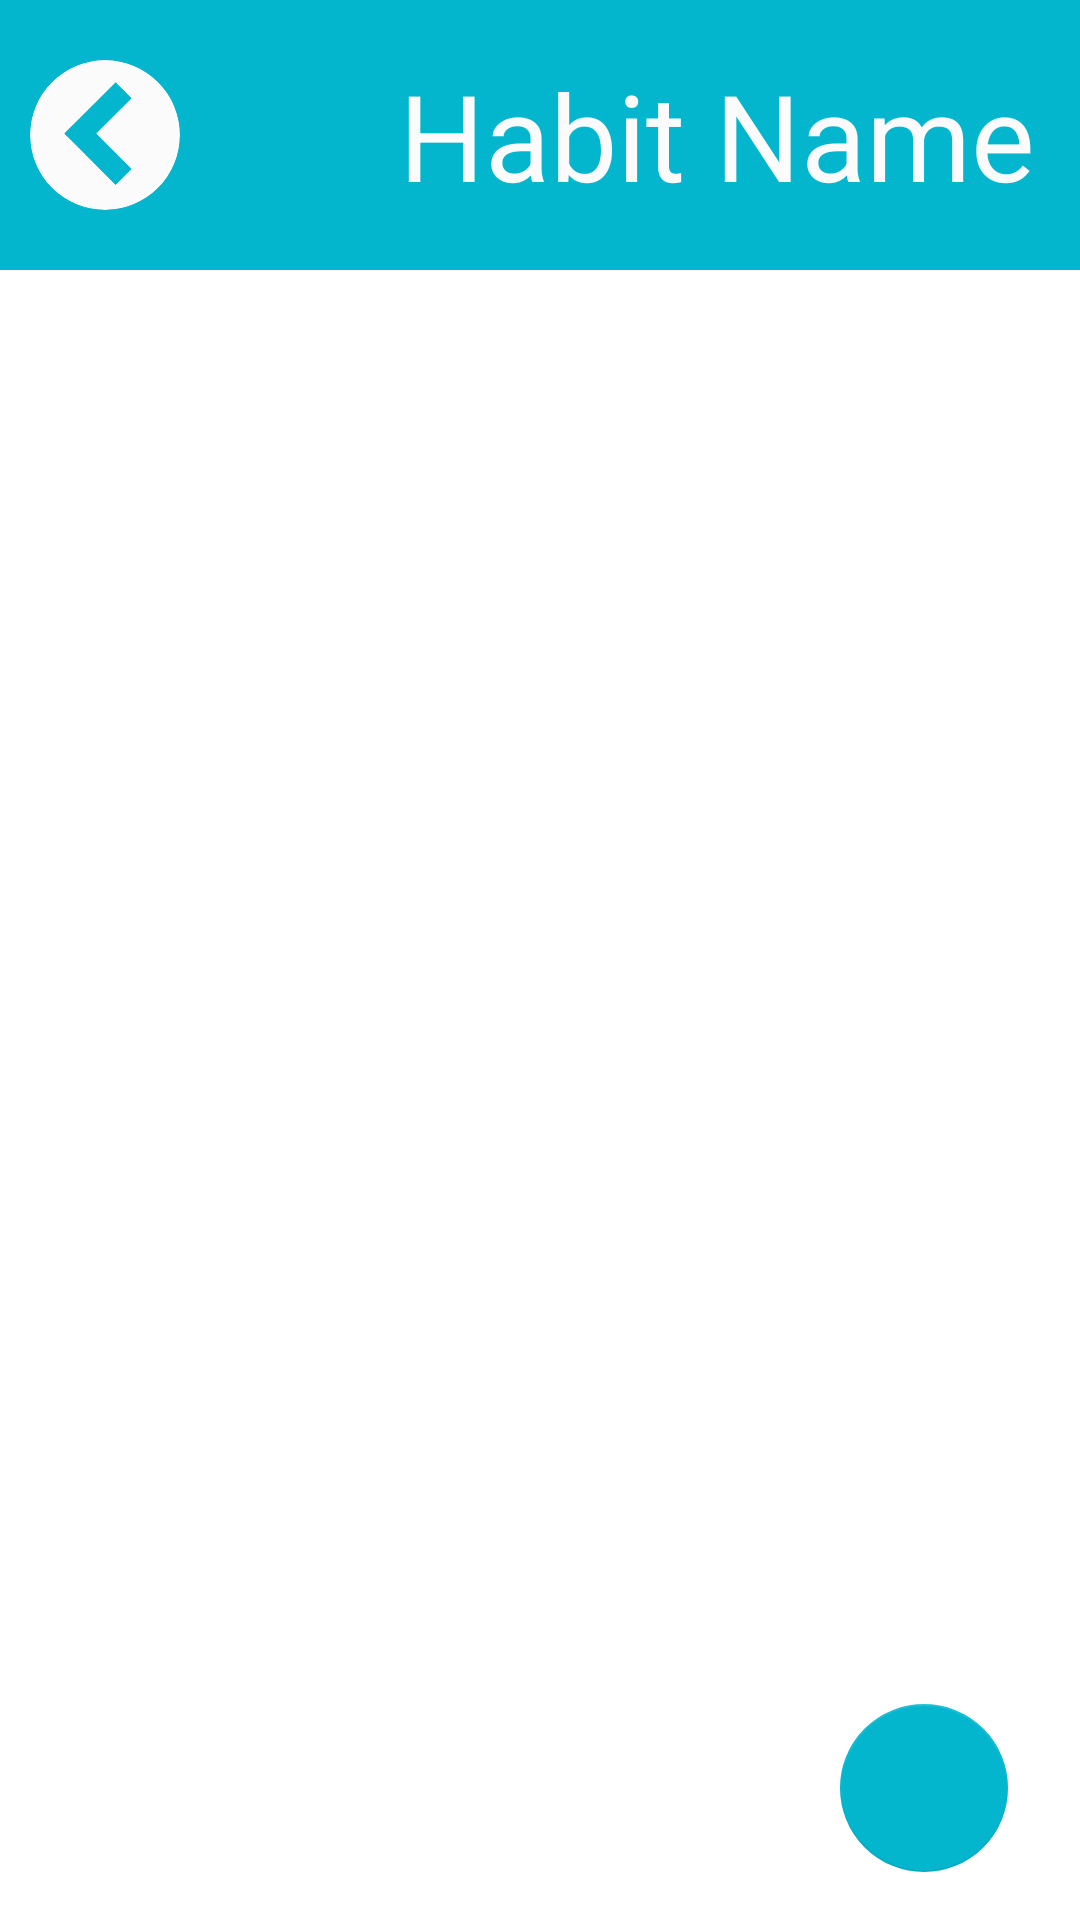

Screen size 1080 x 1920. Icon name, then its box in pixels as (x1, y1, x2, y2):
backbutton: (30, 60, 180, 210)
